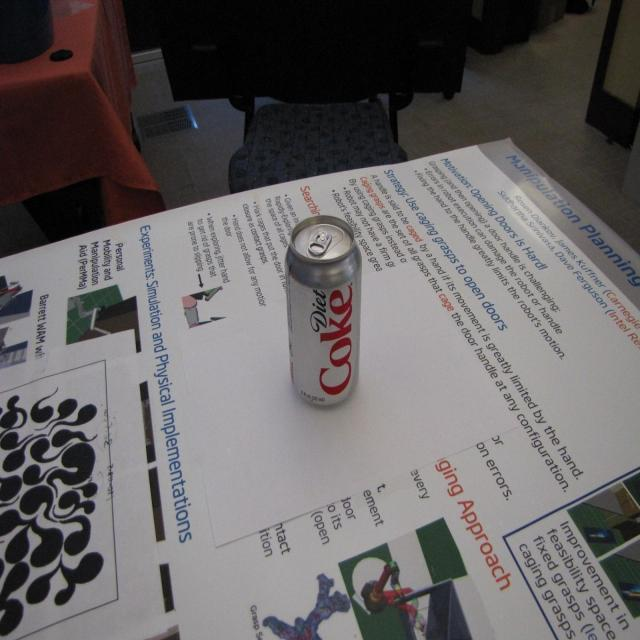tin can: (284, 210, 364, 411)
